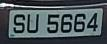4: (86, 11, 100, 35)
5: (45, 13, 61, 35)
6: (59, 12, 74, 35), (73, 12, 87, 35)
S: (12, 13, 26, 36)
U: (25, 13, 41, 35)
